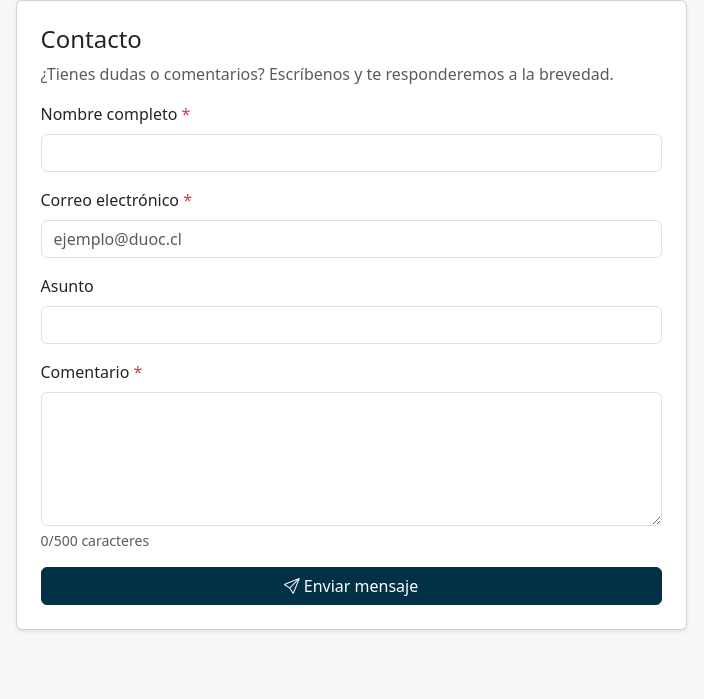
Scenario: Página Contacto › muestra los errores solo después de enviar con campos vacíos
Click the button "Enviar mensaje" at (351, 586), box x1=40 y1=567 x2=662 y2=605
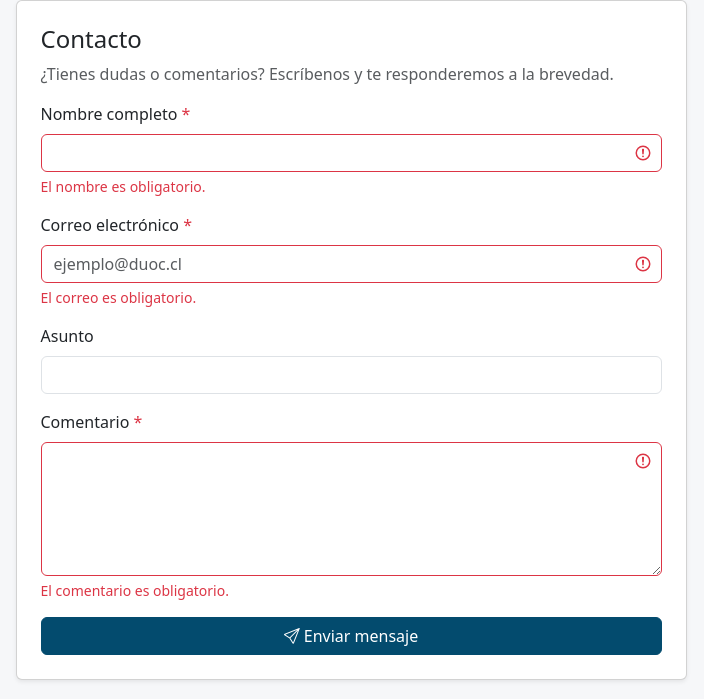
Now the message "El nombre es obligatorio." is shown, box x1=40 y1=177 x2=206 y2=196
Now the message "El correo es obligatorio." is shown, box x1=40 y1=288 x2=196 y2=307
Now the message "El comentario es obligatorio." is shown, box x1=40 y1=581 x2=229 y2=600
